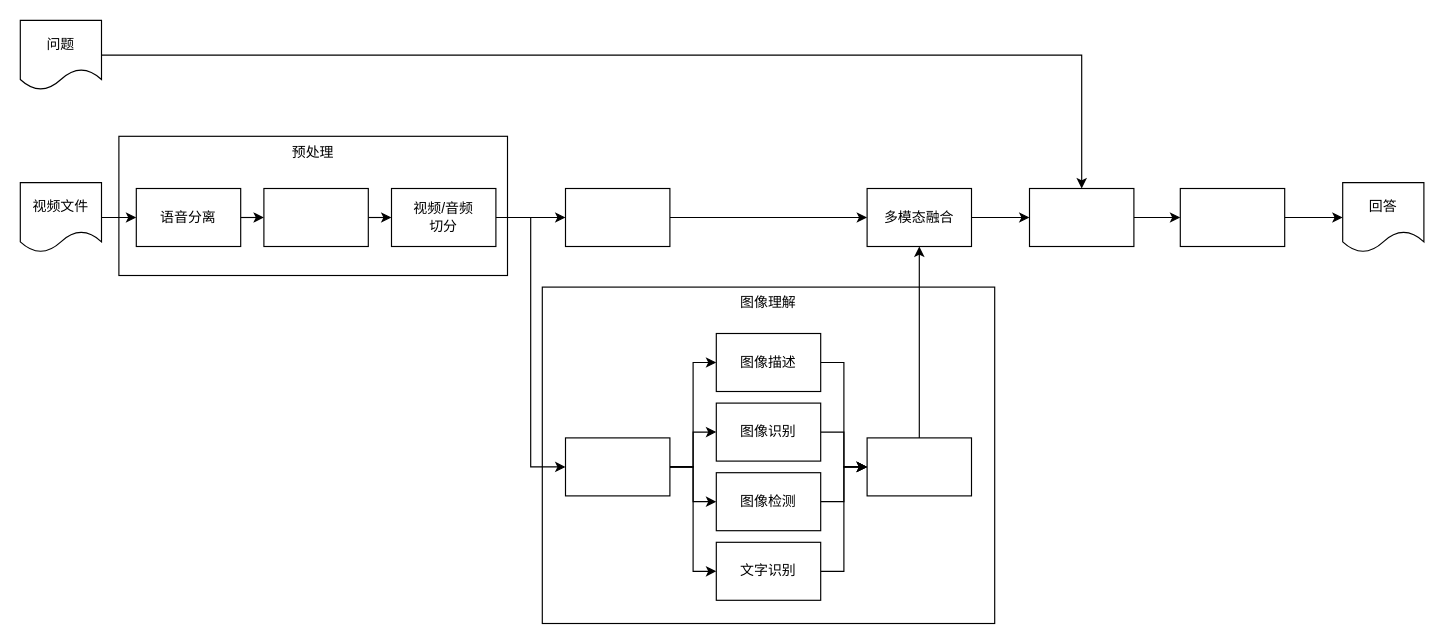
Image size: 1444x644. Some labels were removed from this diagram. Each missing label, with the centre of its shape:
"VAD （人声检测）" belongs at point 315,216.
"多模态提示学习" belongs at point 1081,216.
"视觉融合" belongs at point 918,466.
"视频抽帧" belongs at point 617,466.
"语言大模型" belongs at point 1232,216.
"语音识别" belongs at point 617,216.
